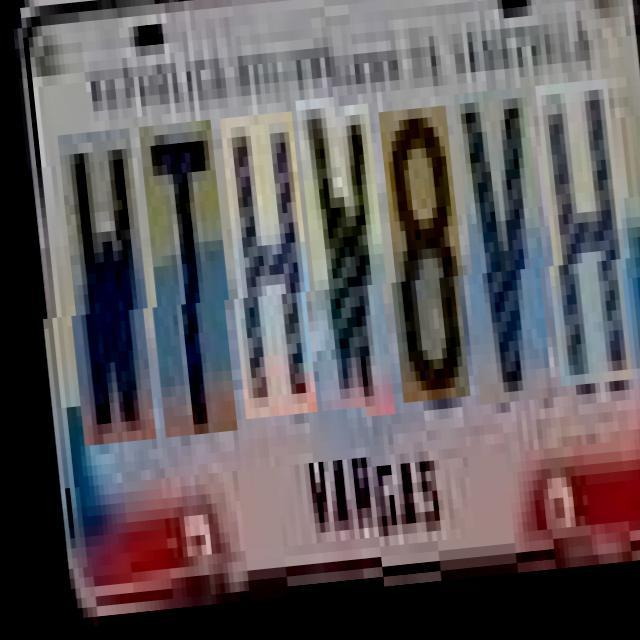8: (375, 115, 466, 410)
H: (532, 91, 628, 398), (218, 128, 314, 434)
T: (136, 134, 234, 450)
V: (450, 98, 548, 414)
W: (293, 111, 390, 427), (56, 140, 152, 457)
